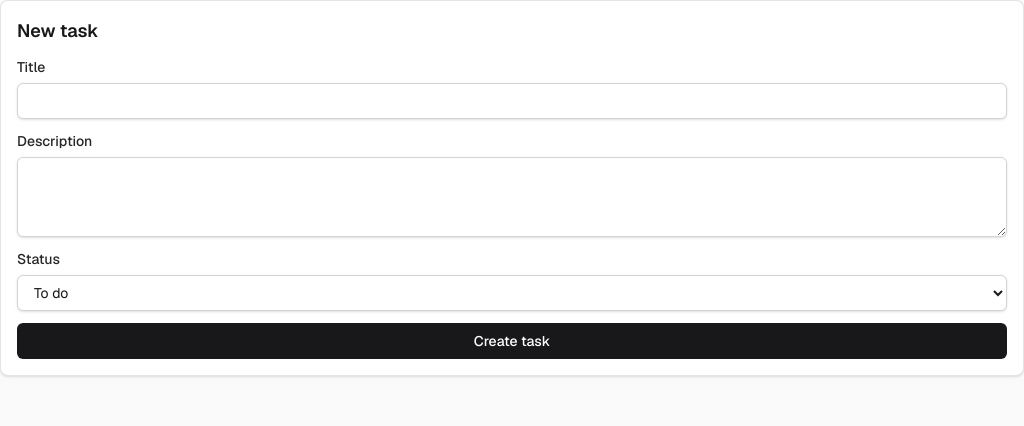
Test: TaskCreateForm › shows an API error message
Type "Ship it" into the field labelled "Title" at {"x": 512, "y": 101}, box [17,83,1007,119]
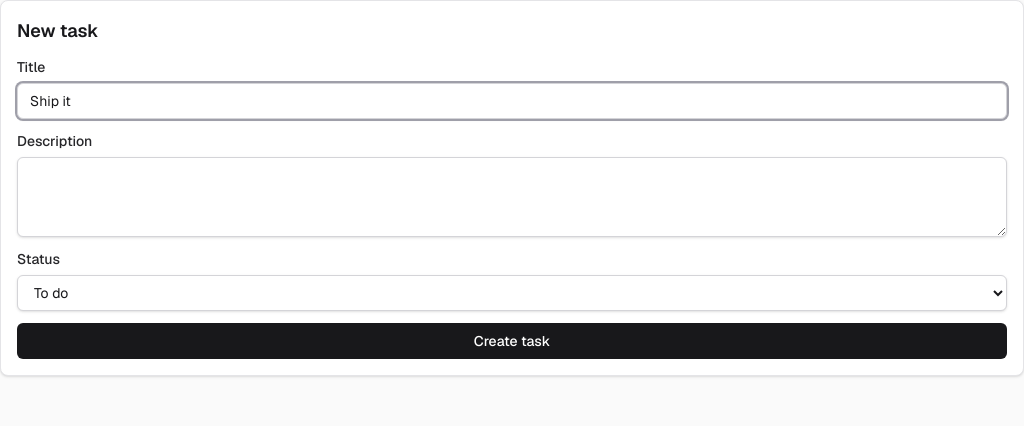
Click the button "Create task" at {"x": 512, "y": 341}, box [17,323,1007,359]
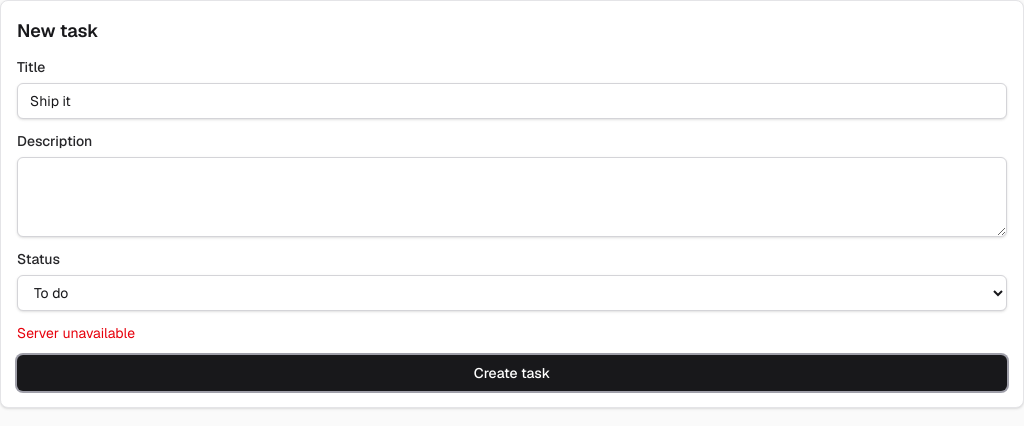
expect the text "Server unavailable" is shown: met, box [17,324,135,342]
